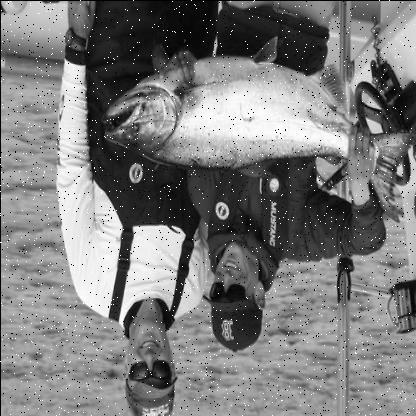fish: (100, 36, 415, 224)
